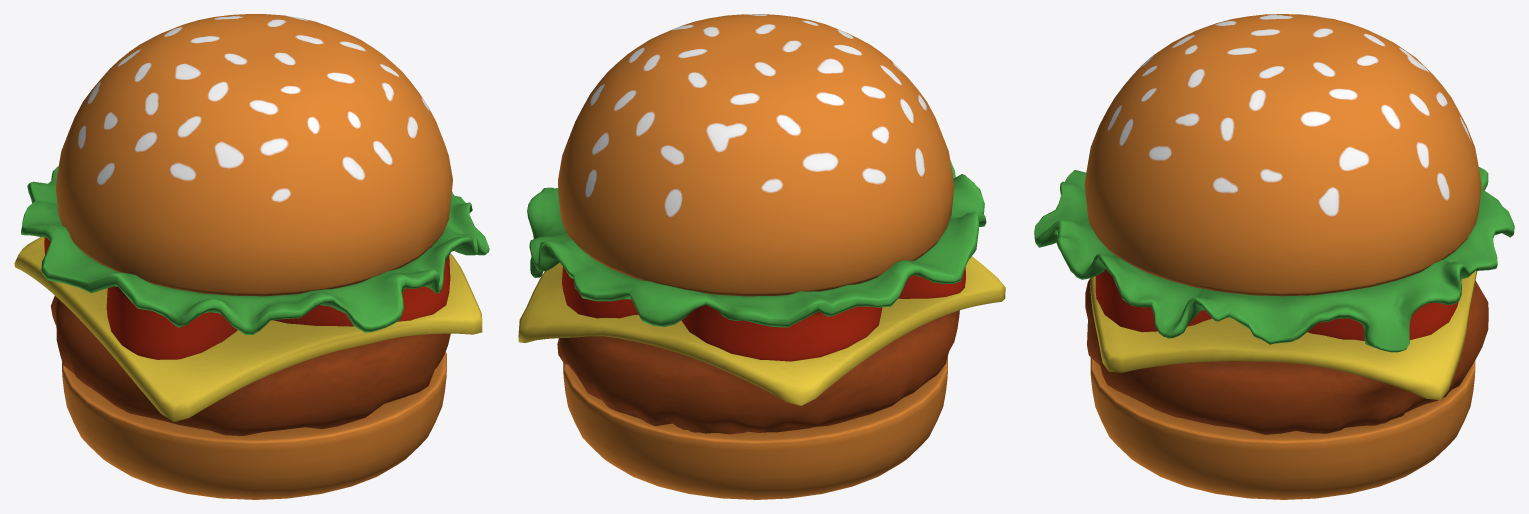
File: hamburgues.glb
3 renders of one model, left to right at view 1: azimuth 30°, elevation 25°; view 2: azimuth 150°, elevation 25°; view 3: azimuth 270°, elevation 25°, orthographic.
Visible parts, largest first — view 1: Cheeseburger.1_1; view 2: Cheeseburger.1_1; view 3: Cheeseburger.1_1.
Boxes of the visible parts, box(x1,y1,x2,y2) form: Cheeseburger.1_1: box(14, 14, 489, 499); Cheeseburger.1_1: box(518, 14, 1005, 499); Cheeseburger.1_1: box(1034, 14, 1514, 499).
Size of the model in its own units: 0.1237 by 0.1161 by 0.1262.
Materials: 1 (1 with a texture image).
